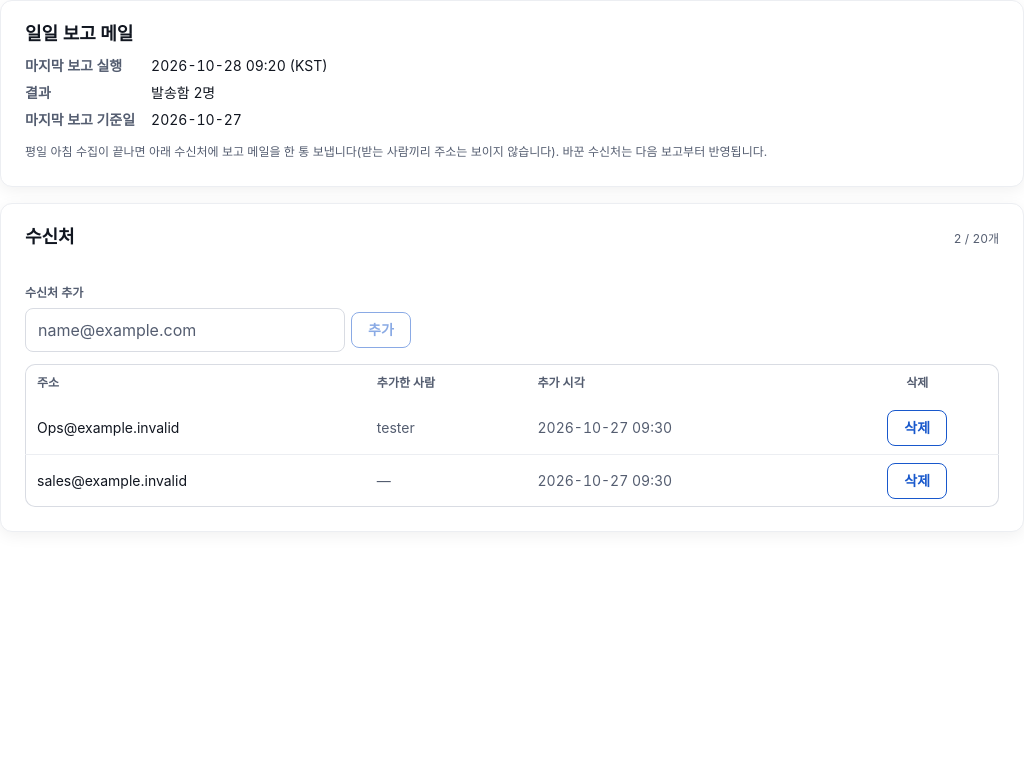
it: 추가 › 서버 VALIDATION 은 입력칸 아래(값 유지), 그 밖의 CONFLICT 는 "이미 처리됨" + 새로 불러오기
The image size is (1024, 768).
In the field labelled "수신처 추가": [185, 330] box [25,308,345,352], type "X@example.invalid"
Then press Enter
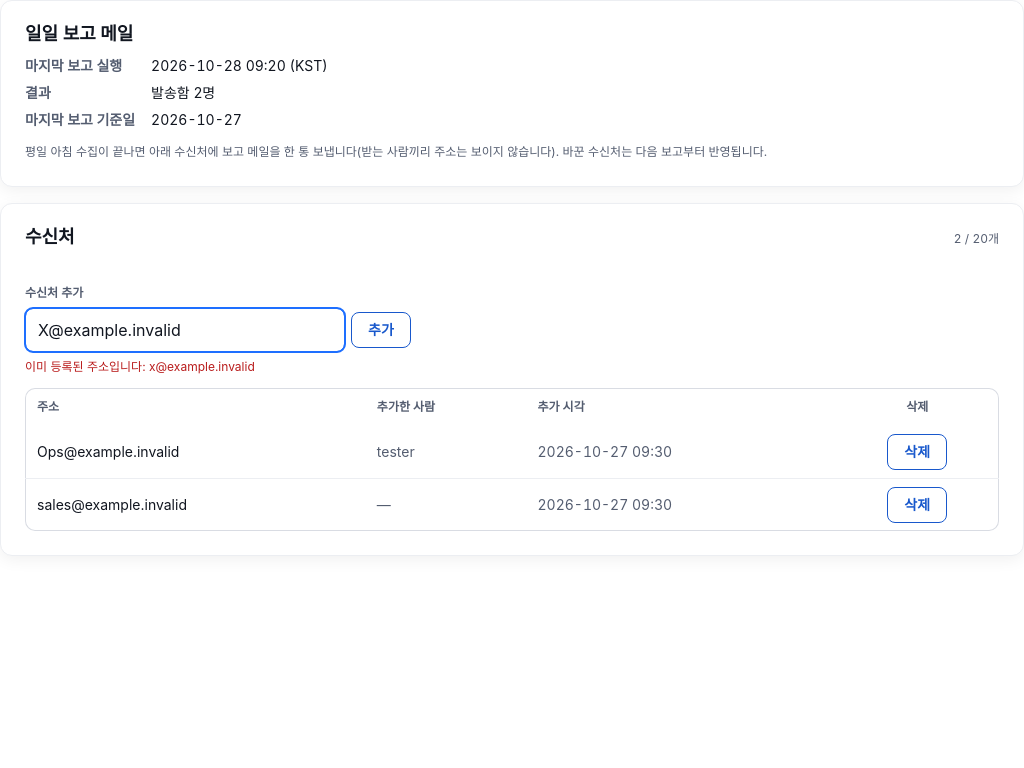
Check: the message "이미 등록된 주소입니다: x@example.invalid" is shown, box [25,358,255,374]
Click the button "추가": [381, 330] box [351,312,411,348]
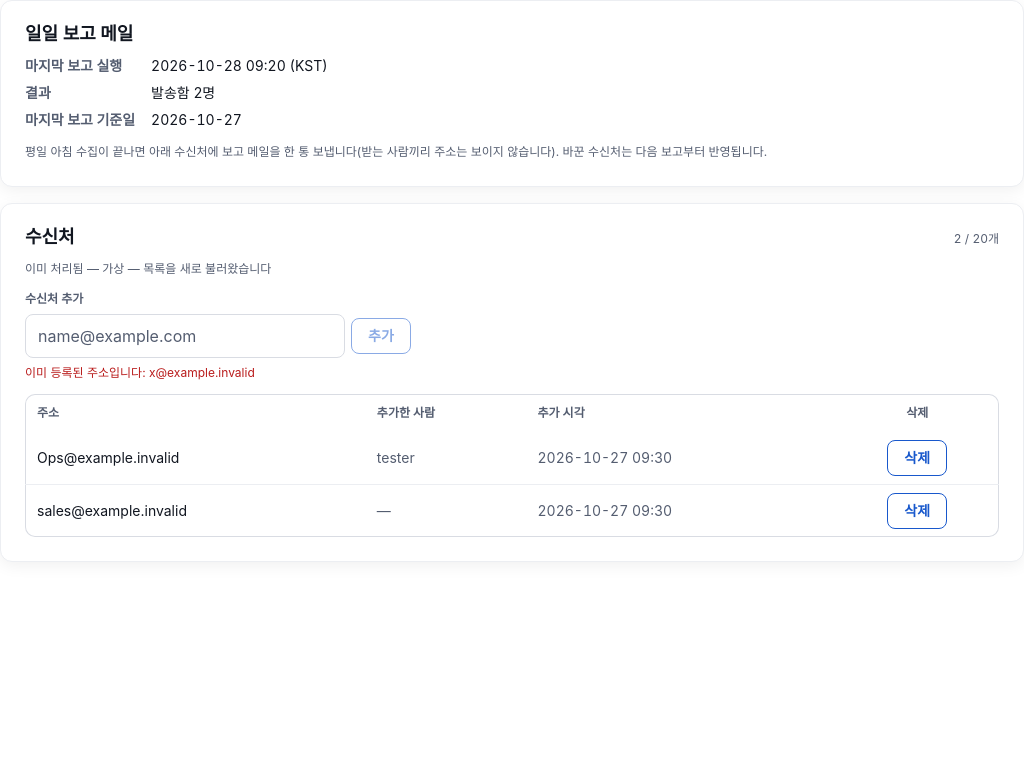
Check: the message "이미 처리됨 — 가상 — 목록을 새로 불러왔습니다" is shown, box [25,260,271,276]
